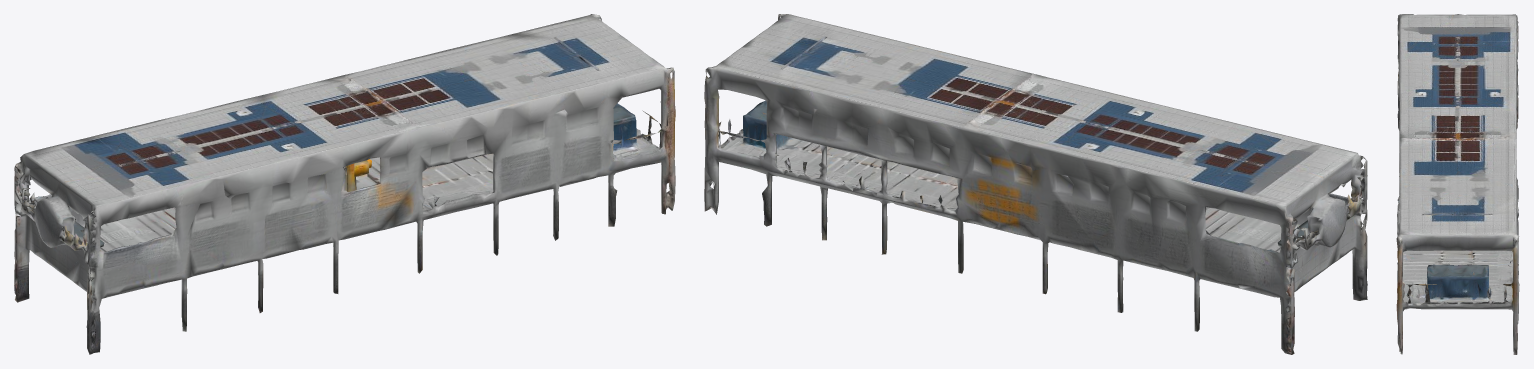
File: siege-workshop.glb
The picture shows the model from 3 angles, left to right: view 1: azimuth 30°, elevation 25°; view 2: azimuth 150°, elevation 25°; view 3: azimuth 270°, elevation 25°; orthographic projection. The views are drawn at different scales.
Size of the model in its own units: 1.88 by 0.4526 by 0.4253.
Materials: 1 (1 with a texture image).
